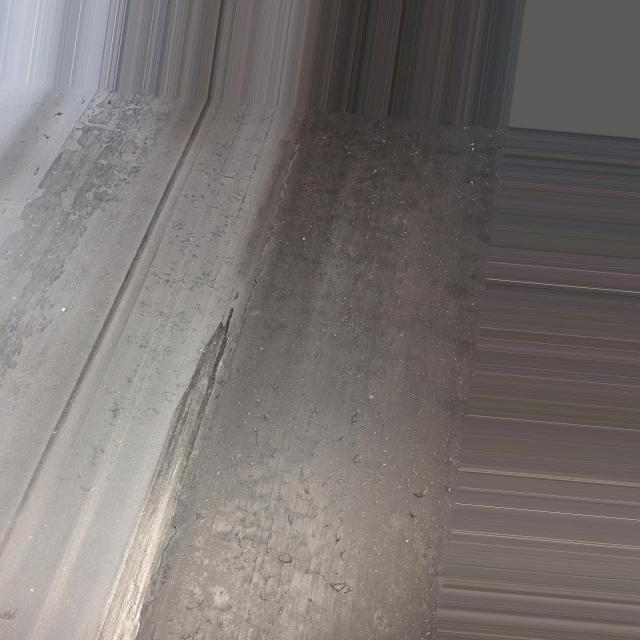impact damage: (80, 322, 229, 640)
